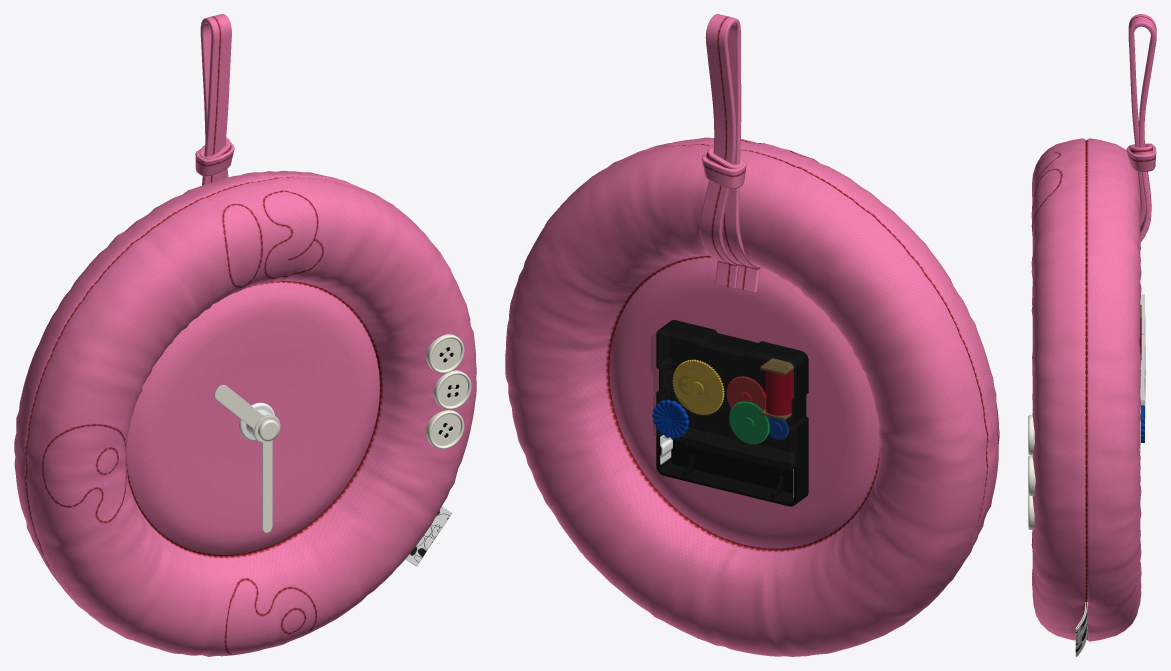
3 views of the same model, side by side, from view 1: azimuth 30°, elevation 25°; view 2: azimuth 150°, elevation 25°; view 3: azimuth 270°, elevation 25° (orthographic). The views are drawn at different scales.
Visible parts, largest first — view 1: 8019; view 2: 8019; view 3: 8019.
Boxes of the visible parts, left/top/right/bottom form: 8019: left=14, top=14, right=476, bottom=656; 8019: left=505, top=14, right=999, bottom=656; 8019: left=1028, top=14, right=1156, bottom=656.
Size of the model in its own units: 0.1865 by 0.2447 by 0.0474.
Materials: 2 (1 with a texture image).
